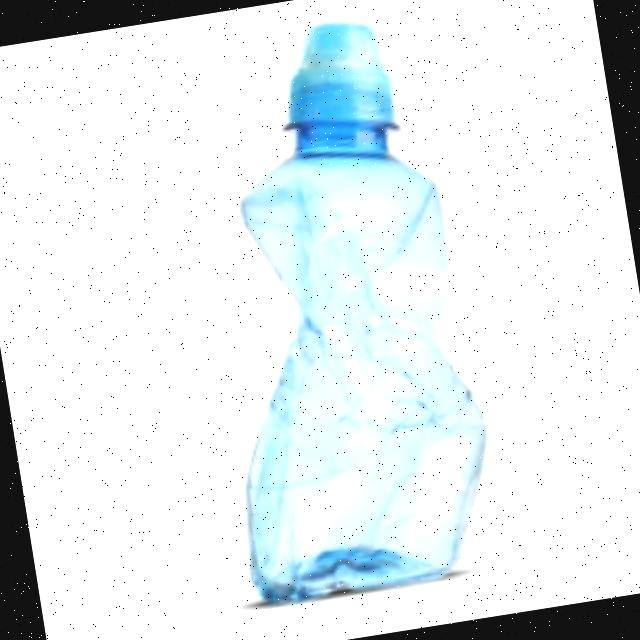Plastic: (140, 0, 550, 635), (561, 0, 640, 568)
